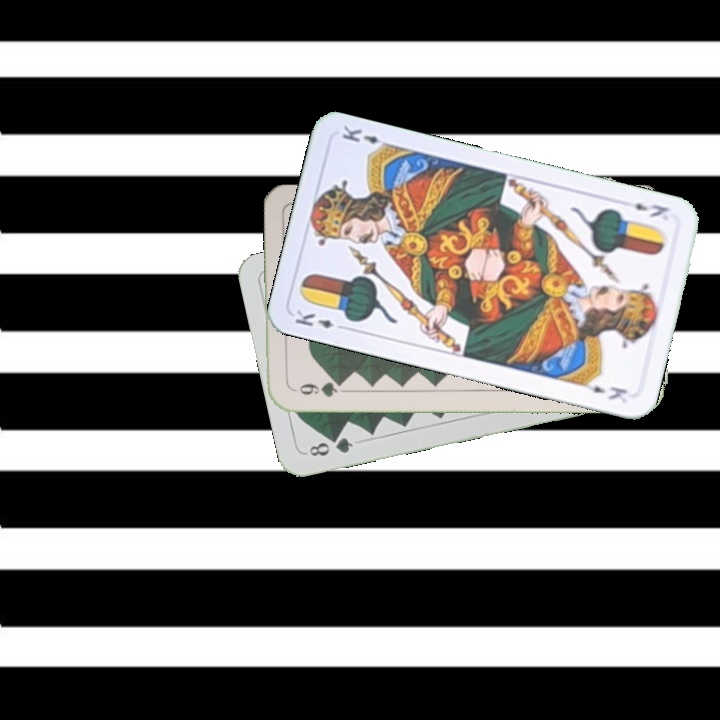EK: (291, 306, 349, 333), (630, 199, 672, 220)
G8: (305, 432, 356, 459)
G9: (295, 377, 347, 399)
